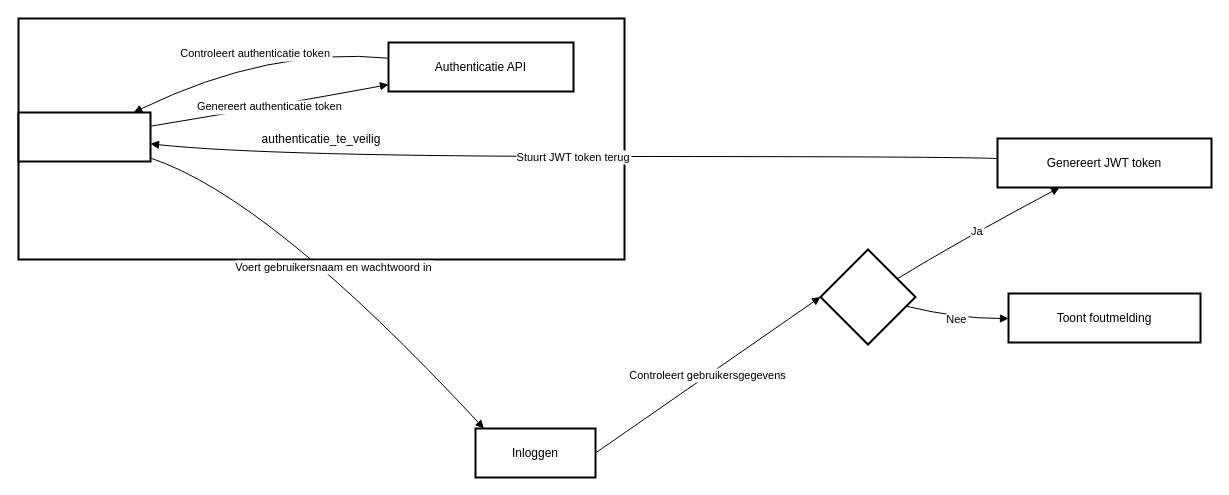
Some shapes in this 1229 by 495 pixel diagram are drawn without their labels. Here are the shapes that lost their labels. From the top down, the centre of each, then its label:
pixel 84 136: Gebruiker
pixel 867 296: Geldig
